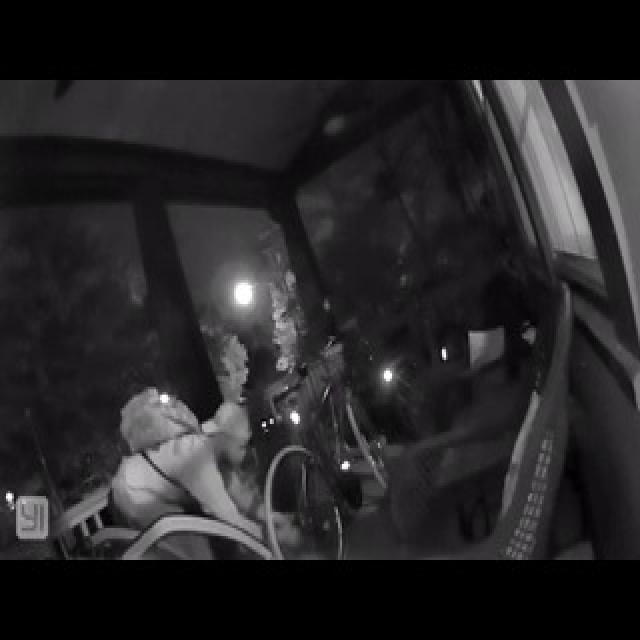thief: (106, 394, 264, 538)
